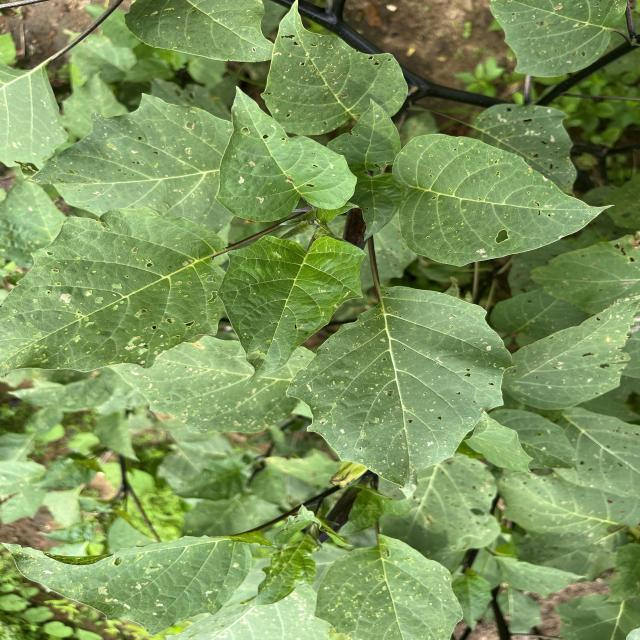Datura metal linn: (282, 282, 518, 500), (389, 131, 619, 271), (1, 528, 280, 639), (213, 232, 370, 394), (258, 0, 410, 140), (212, 83, 360, 226)
